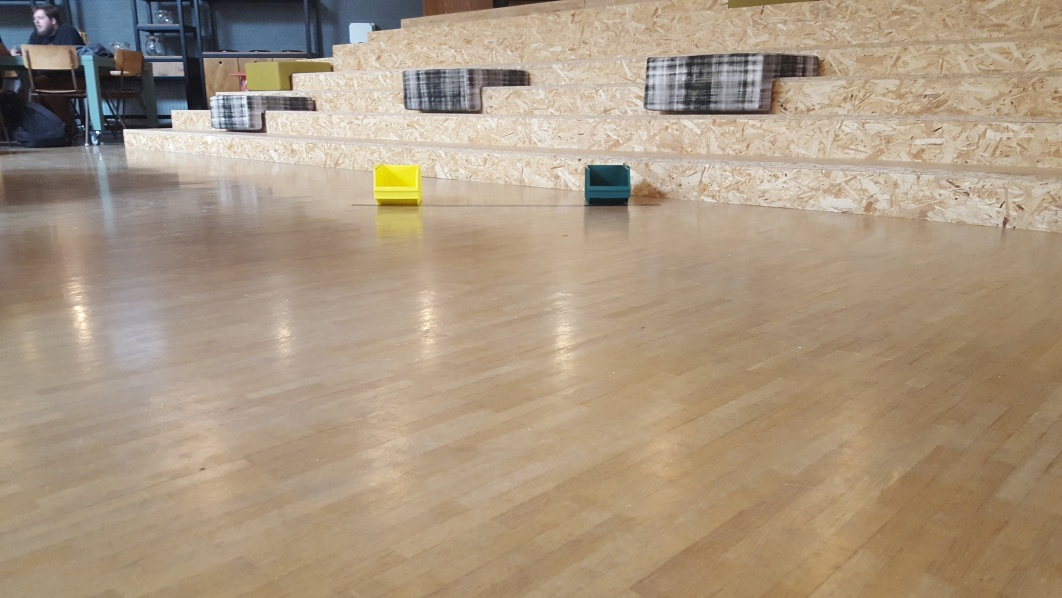tray: (370, 159, 421, 204), (583, 162, 636, 204)
